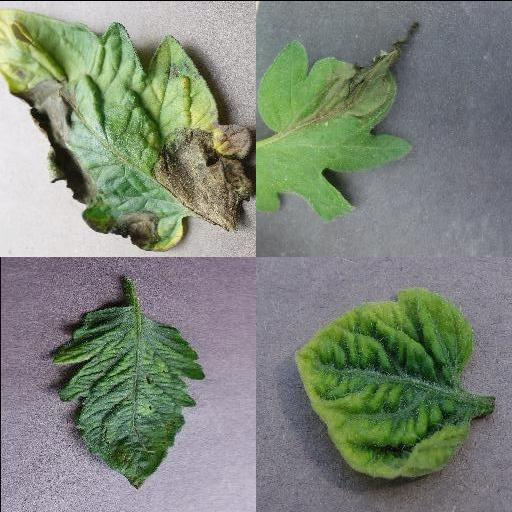Late Blight: (0, 8, 256, 256), (256, 21, 420, 220)
Mosaic Virus: (49, 305, 205, 489)
Yellow Leaf Curl Virus: (291, 288, 475, 478)
